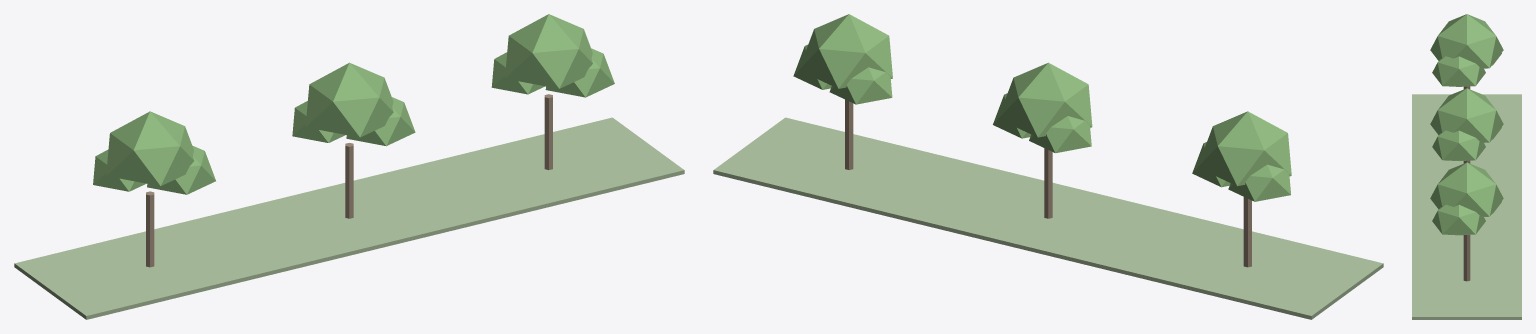
The model's file is 16_parks_greenery-02.glb.
The picture shows the model from 3 angles, left to right: view 1: azimuth 30°, elevation 25°; view 2: azimuth 150°, elevation 25°; view 3: azimuth 270°, elevation 25°; orthographic projection. The views are drawn at different scales.
Bounding box in the file's own units: 24 × 6.06 × 5.
